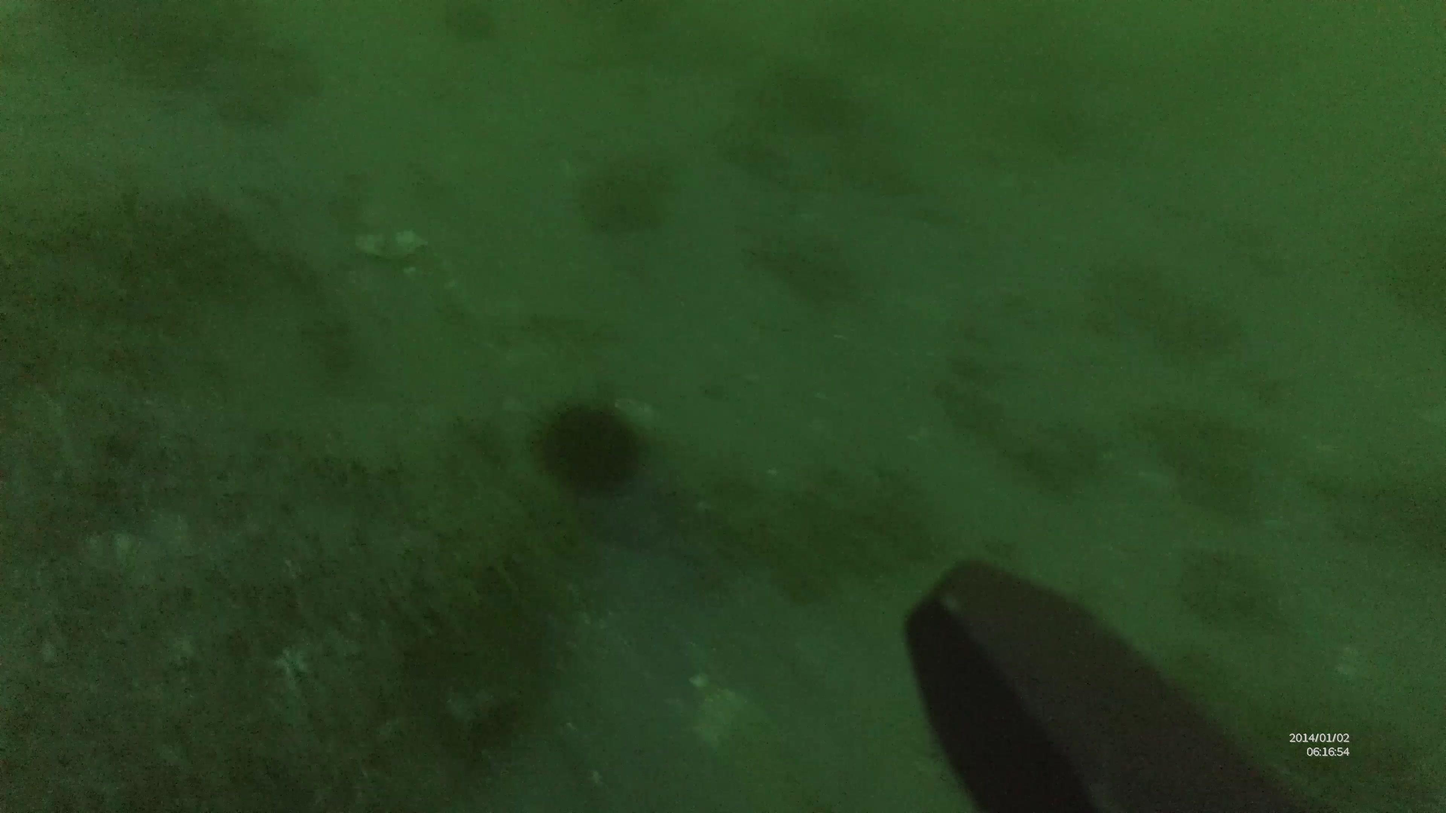starfish: (526, 394, 650, 501)
